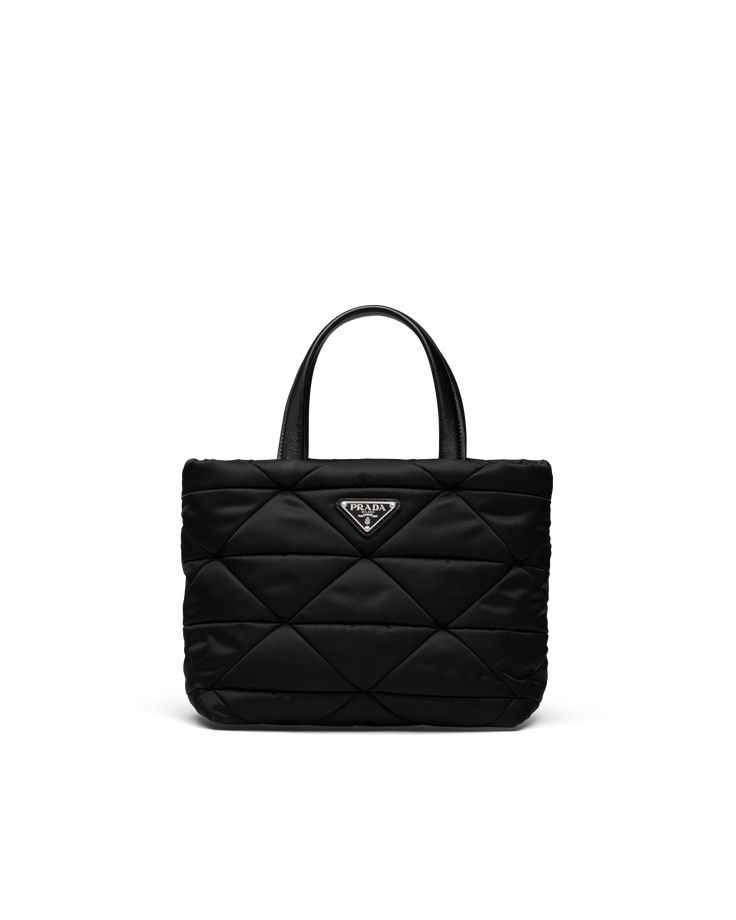nylon: (181, 458, 554, 731)
